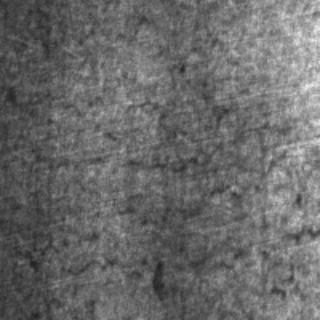crazing: (26, 92, 282, 256)
